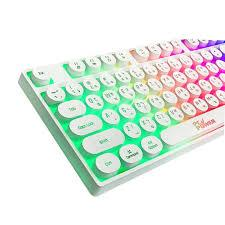keyboard: (17, 36, 224, 196)
